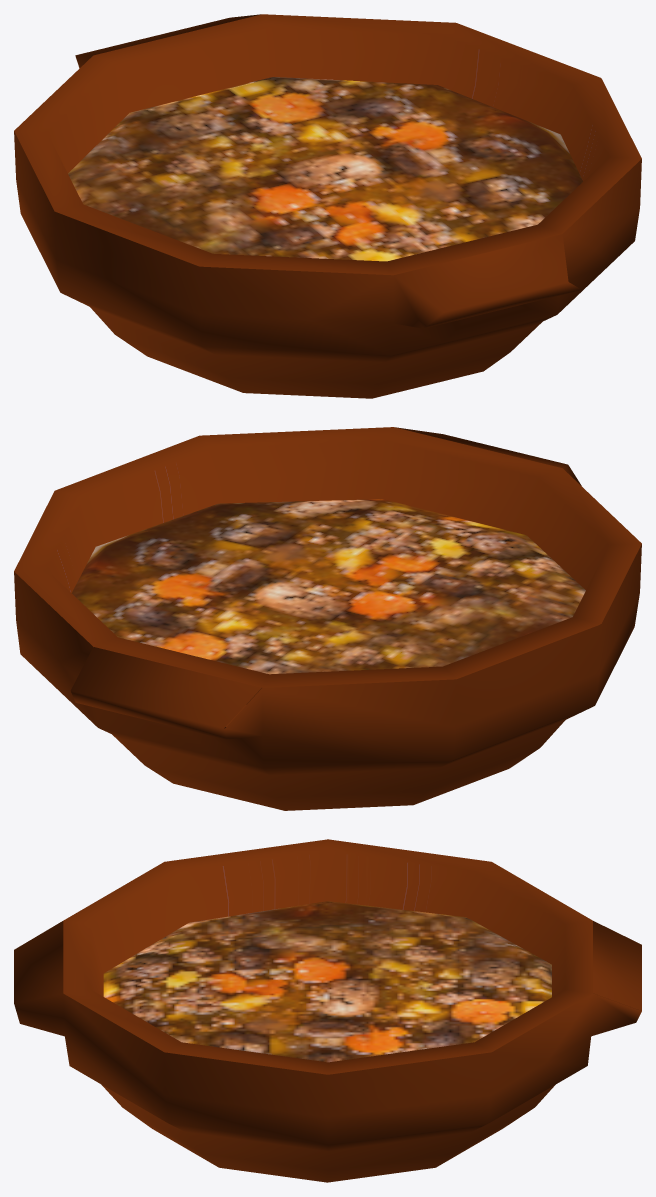
File: KS_SamgyeTang_Ground.fbx
3 views of the same model, one above another, from view 1: azimuth 30°, elevation 25°; view 2: azimuth 150°, elevation 25°; view 3: azimuth 270°, elevation 25° (orthographic). The views are drawn at different scales.
Parts seen in each view (by area): view 1: Bowl.002; view 2: Bowl.002; view 3: Bowl.002.
Boxes of the visible parts, x1,y1,x2,y2 form: Bowl.002: [14, 14, 641, 398]; Bowl.002: [14, 427, 641, 810]; Bowl.002: [14, 839, 641, 1182].
Size of the model in its own units: 1.19 by 0.3492 by 1.35.
